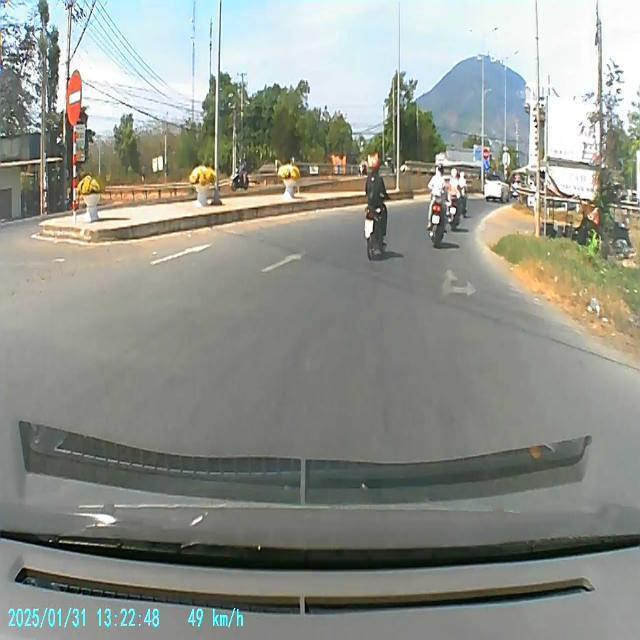102-cam-di-nguoc-chieu: (68, 70, 82, 128), (483, 147, 489, 159)
302a-huong-phai-di-vong-chuong-ngai-vat-1: (483, 160, 489, 172)
